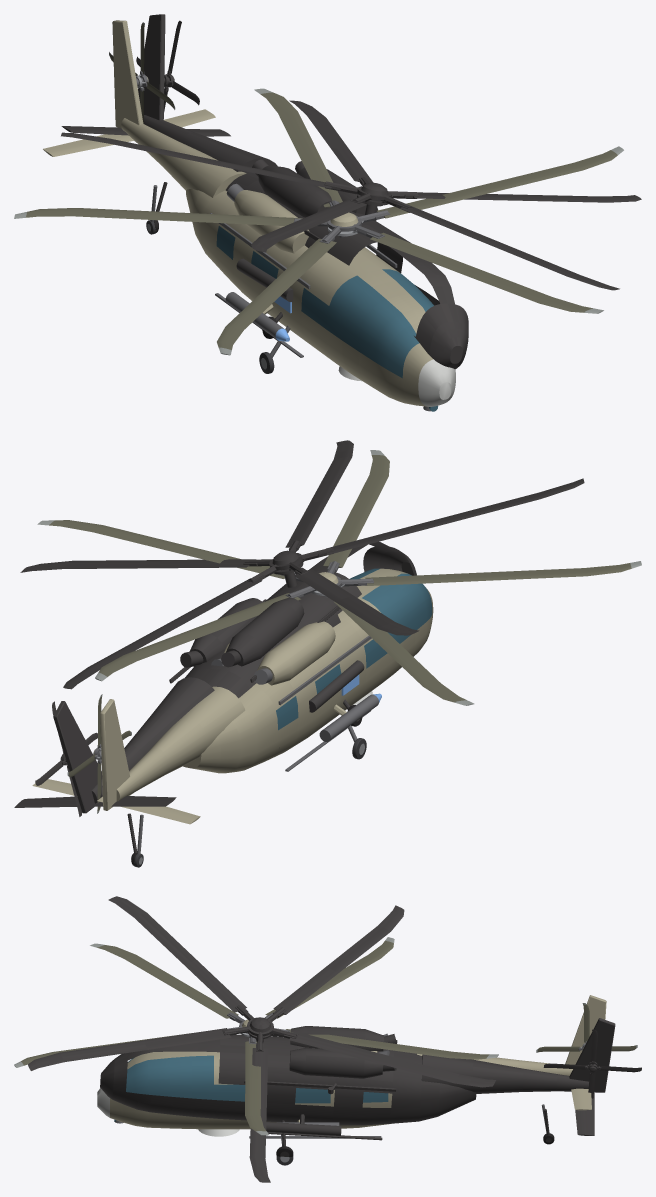
The model's file is navalHelicopter__z_20f.glb.
The picture shows the model from 3 angles, top to bottom: view 1: azimuth 30°, elevation 25°; view 2: azimuth 150°, elevation 25°; view 3: azimuth 270°, elevation 25°; orthographic projection. The views are drawn at different scales.
Visible parts, largest first — view 1: Fuselage_Mesh, Wreck, Rotor_Main_Mesh, Engines_Mesh, Naval_Mission_Kit_Mesh, Rotor_Tail_Mesh, Landing_Gear_Mesh; view 2: Wreck, Fuselage_Mesh, Rotor_Main_Mesh, Engines_Mesh, Naval_Mission_Kit_Mesh, Rotor_Tail_Mesh, Landing_Gear_Mesh; view 3: Wreck, Fuselage_Mesh, Rotor_Main_Mesh, Rotor_Tail_Mesh.
Boxes of the visible parts, x1,y1,x2,y2 form: Fuselage_Mesh: (43,20,455,411); Wreck: (61,14,641,369); Rotor_Main_Mesh: (14,88,623,355); Engines_Mesh: (226,183,309,253); Naval_Mission_Kit_Mesh: (225,292,289,341); Rotor_Tail_Mesh: (109,22,175,123); Landing_Gear_Mesh: (146,185,290,373); Wreck: (14,440,584,865); Fuselage_Mesh: (32,568,433,824); Rotor_Main_Mesh: (37,450,641,705); Engines_Mesh: (211,621,335,685); Naval_Mission_Kit_Mesh: (319,693,381,741); Rotor_Tail_Mesh: (67,694,131,813); Landing_Gear_Mesh: (133,709,366,867); Wreck: (28,896,641,1182); Fuselage_Mesh: (97,995,606,1138); Rotor_Main_Mesh: (14,937,498,1135); Rotor_Tail_Mesh: (536,1003,637,1052).
Size of what is drawn, in the model's own units: 15.26 by 6.28 by 19.8.
